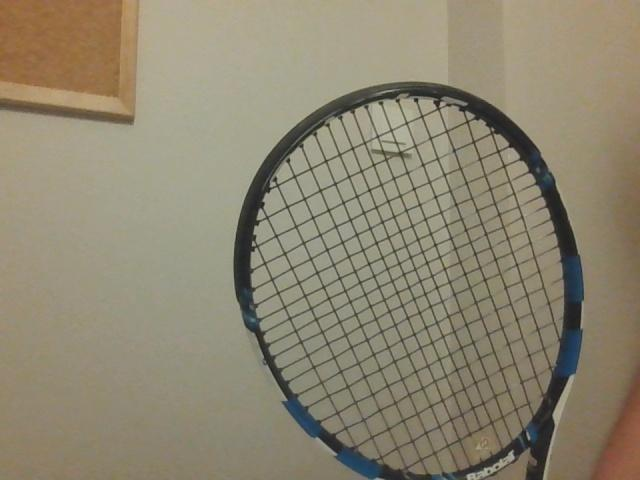Tennis-Racket: (236, 82, 586, 480)
